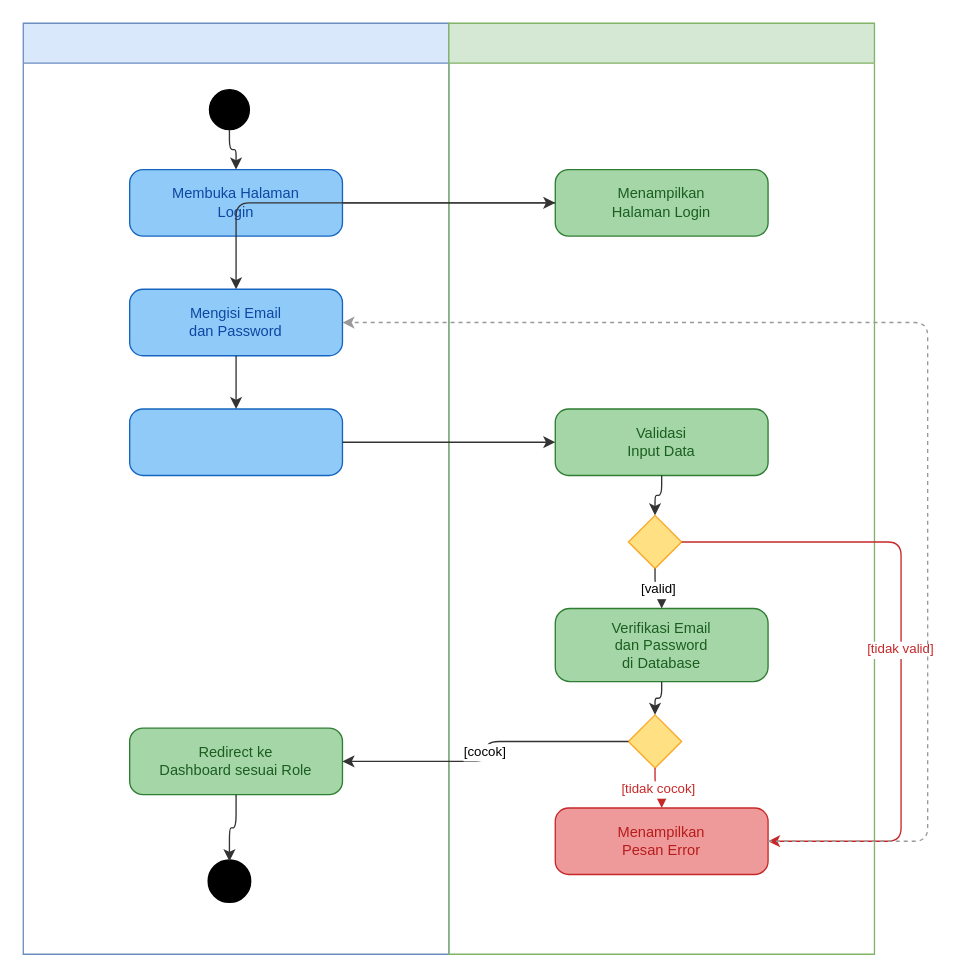
Image size: 962x978. Some labels were removed from this diagram. Here are the shapes that lost their labels. From the top down, the box of each, then its label:
(128, 408, 342, 475): Klik Tombol Login
(22, 22, 449, 954): User
(448, 22, 874, 954): Sistem
